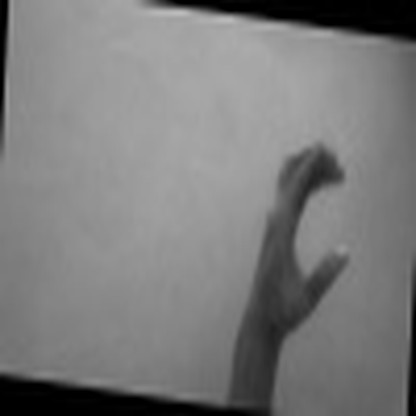c: (246, 135, 356, 338)
